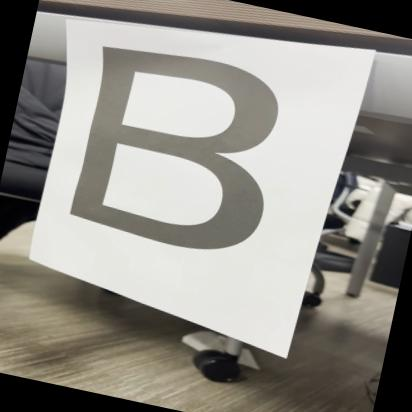seat: (22, 25, 316, 280)
